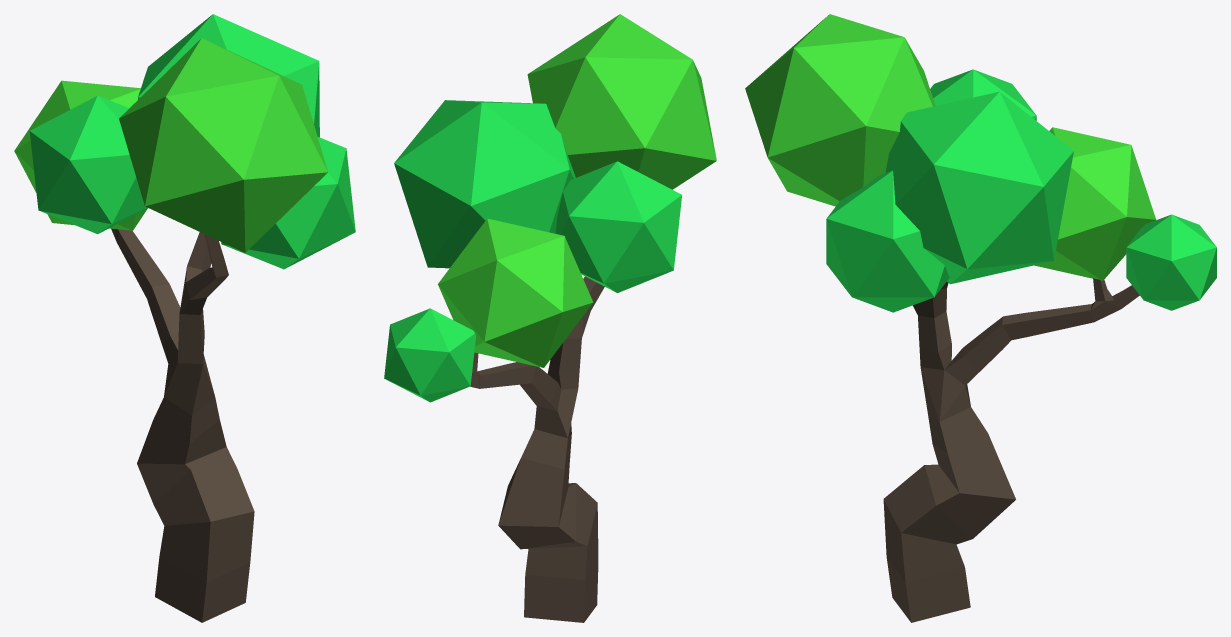
File: Strom 1.fbx
3 views of the same model, side by side, from view 1: azimuth 30°, elevation 25°; view 2: azimuth 150°, elevation 25°; view 3: azimuth 270°, elevation 25° (orthographic). The views are drawn at different scales.
Parts seen in each view (by area): view 1: Icosphere.004, Cube, Icosphere.005, Icosphere.006, Icosphere.003, Icosphere.002; view 2: Icosphere.004, Icosphere.003, Cube, Icosphere.002, Icosphere.005, Icosphere; view 3: Icosphere.003, Cube, Icosphere.004, Icosphere.006, Icosphere.002, Icosphere, Icosphere.005.
Boxes of the visible parts, <box> form: Icosphere.004: <box>119,38,327,252</box>; Cube: <box>111,228,254,622</box>; Icosphere.005: <box>29,95,147,234</box>; Icosphere.006: <box>221,137,355,269</box>; Icosphere.003: <box>138,14,319,137</box>; Icosphere.002: <box>14,80,147,230</box>; Icosphere.004: <box>527,14,716,189</box>; Icosphere.003: <box>394,100,575,268</box>; Cube: <box>470,276,604,622</box>; Icosphere.002: <box>438,218,593,367</box>; Icosphere.005: <box>555,161,681,292</box>; Icosphere: <box>384,308,475,402</box>; Icosphere.003: <box>885,91,1073,284</box>; Cube: <box>883,278,1139,622</box>; Icosphere.004: <box>745,14,935,206</box>; Icosphere.006: <box>826,170,949,312</box>; Icosphere.002: <box>1034,127,1156,280</box>; Icosphere: <box>1126,214,1216,310</box>; Icosphere.005: <box>930,69,1036,120</box>.
Bounding box in the file's own units: 588 × 1168 × 887.
